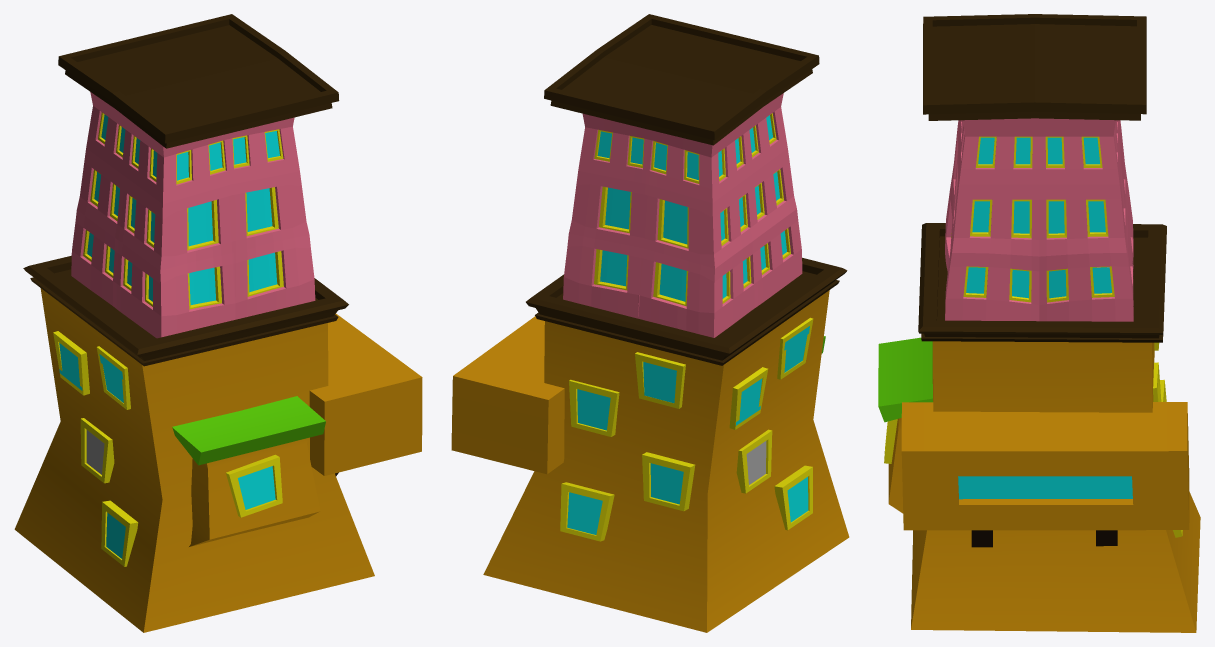
The model's file is SM_Goal_2.fbx.
3 views of the same model, side by side, from view 1: azimuth 30°, elevation 25°; view 2: azimuth 150°, elevation 25°; view 3: azimuth 270°, elevation 25° (orthographic). The views are drawn at different scales.
Visible parts, largest first — view 1: SM_Goal_2; view 2: SM_Goal_2; view 3: SM_Goal_2.
Part boxes in pixels (x1=…): SM_Goal_2: x1=14, y1=14, x2=422, y2=632; SM_Goal_2: x1=451, y1=14, x2=849, y2=632; SM_Goal_2: x1=878, y1=14, x2=1200, y2=632.
Size of what is drawn, in the model's own units: 3826 by 6501 by 3696.
